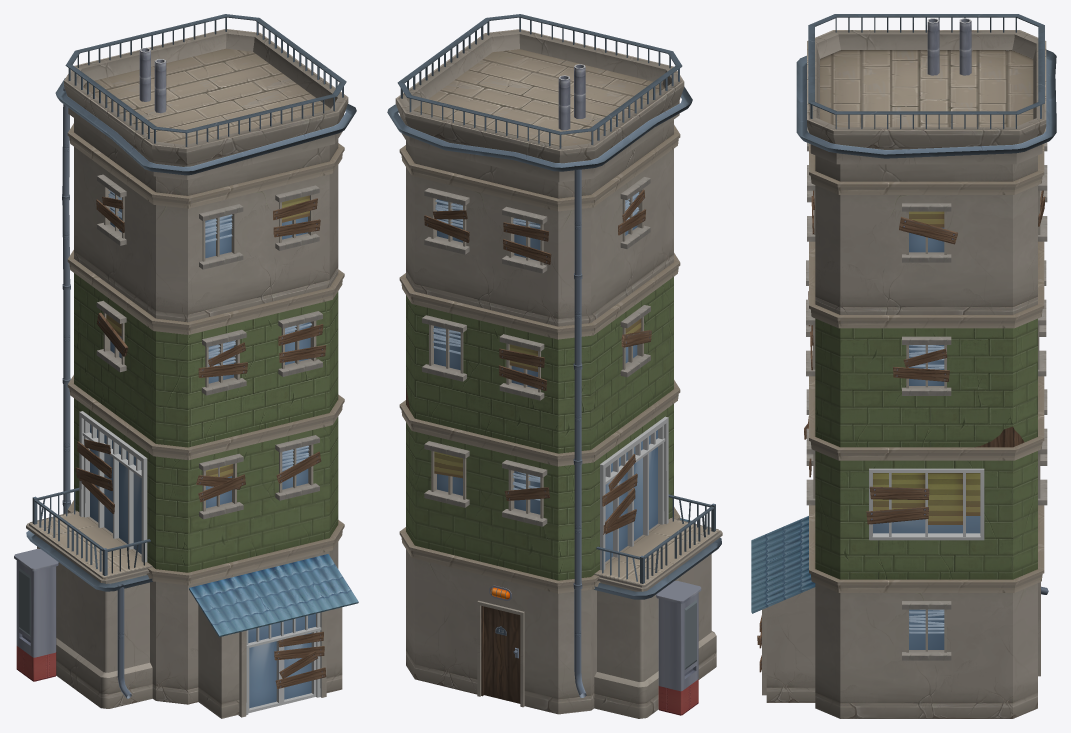
Rendered from Building_02_5_LOD1.fbx.
3 views of the same model, side by side, from view 1: azimuth 30°, elevation 25°; view 2: azimuth 150°, elevation 25°; view 3: azimuth 270°, elevation 25° (orthographic). The views are drawn at different scales.
Visible parts, largest first — view 1: polySurface3683; view 2: polySurface3683; view 3: polySurface3683.
Part boxes in pixels (bbox=[...]): polySurface3683: bbox=[14, 14, 358, 718]; polySurface3683: bbox=[387, 14, 722, 718]; polySurface3683: bbox=[751, 14, 1056, 718].
Size of the model in its own units: 736 by 1535 by 673.
